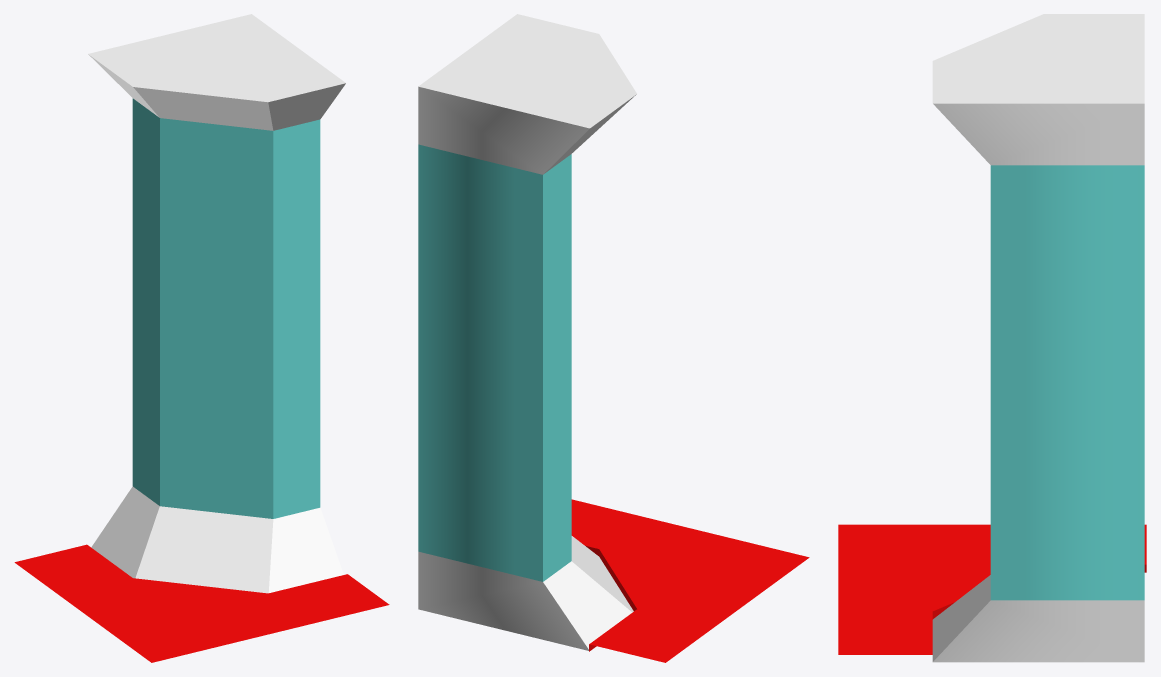
Rendered from Wall-OpenTurn.fbx.
3 renders of one model, left to right at view 1: azimuth 30°, elevation 25°; view 2: azimuth 150°, elevation 25°; view 3: azimuth 270°, elevation 25°, orthographic. The views are drawn at different scales.
Parts seen in each view (by area): view 1: OpenTurn; view 2: OpenTurn; view 3: OpenTurn.
Part boxes in pixels (x1,y1,x2,y2): OpenTurn: [14, 14, 389, 662]; OpenTurn: [418, 14, 809, 662]; OpenTurn: [838, 14, 1146, 662].
Bounding box in the file's own units: 78.74 × 157 × 78.74.
